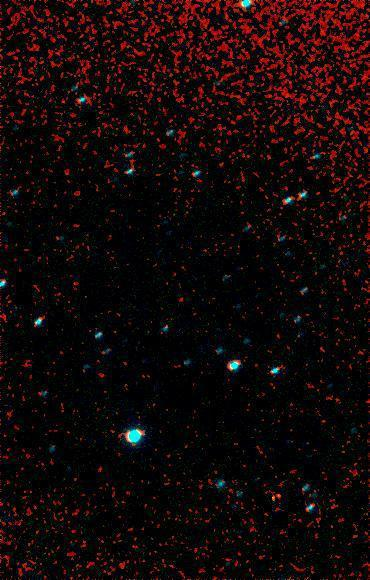star: (262, 480, 292, 510)
